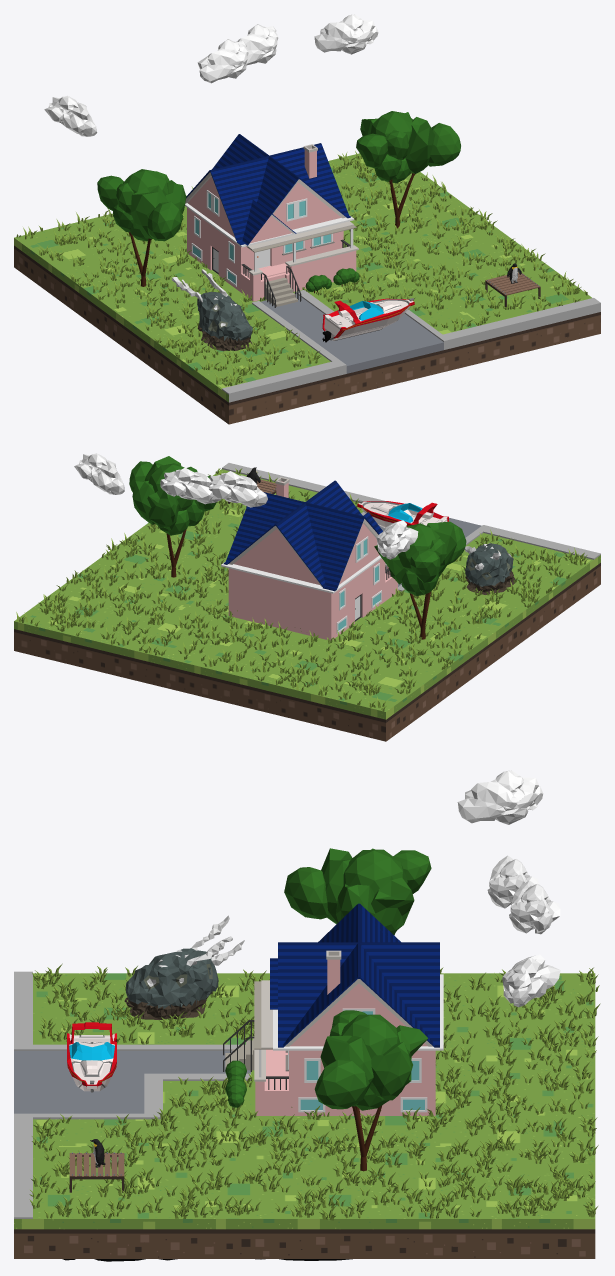
The picture shows the model from 3 angles, top to bottom: view 1: azimuth 30°, elevation 25°; view 2: azimuth 150°, elevation 25°; view 3: azimuth 270°, elevation 25°; orthographic projection. The views are drawn at different scales.
Parts seen in each view (by area): view 1: Cube.006, Cube.313, Circle.012_Grass_0.192, Cube.007, tree, tree.001, OBJRANDOM_METEORITE, VEHICLES_BOAT, Cube.009; view 2: Cube.006, Cube.313, Circle.012_Grass_0.192, Cube.007, tree.001, tree, OBJRANDOM_METEORITE, VEHICLES_BOAT; view 3: Cube.006, Circle.012_Grass_0.192, Cube.313, tree, Cube.007, tree.001, OBJRANDOM_METEORITE, VEHICLES_BOAT, Cube.009.
Part boxes in pixels (bbox=[...]): Cube.006: bbox=[14, 153, 600, 424]; Cube.313: bbox=[185, 134, 358, 307]; Circle.012_Grass_0.192: bbox=[16, 151, 587, 386]; Cube.007: bbox=[44, 14, 378, 136]; tree: bbox=[356, 111, 460, 228]; tree.001: bbox=[97, 169, 186, 286]; OBJRANDOM_METEORITE: bbox=[172, 269, 252, 351]; VEHICLES_BOAT: bbox=[322, 298, 414, 342]; Cube.009: bbox=[485, 272, 540, 306]; Cube.006: bbox=[14, 463, 600, 741]; Cube.313: bbox=[221, 477, 397, 640]; Circle.012_Grass_0.192: bbox=[16, 468, 587, 711]; Cube.007: bbox=[74, 453, 418, 559]; tree.001: bbox=[374, 521, 466, 639]; tree: bbox=[129, 456, 216, 577]; OBJRANDOM_METEORITE: bbox=[464, 543, 515, 594]; VEHICLES_BOAT: bbox=[357, 500, 448, 527]; Cube.006: bbox=[14, 971, 595, 1258]; Circle.012_Grass_0.192: bbox=[29, 963, 600, 1220]; Cube.313: bbox=[223, 903, 443, 1115]; tree: bbox=[314, 1010, 427, 1171]; Cube.007: bbox=[457, 770, 560, 1007]; tree.001: bbox=[284, 848, 431, 935]; OBJRANDOM_METEORITE: bbox=[124, 915, 244, 1019]; VEHICLES_BOAT: bbox=[67, 1022, 116, 1092]; Cube.009: bbox=[69, 1152, 124, 1192].
Size of the model in its own units: 4071 by 2149 by 4040.
33 materials, 3 textured.
